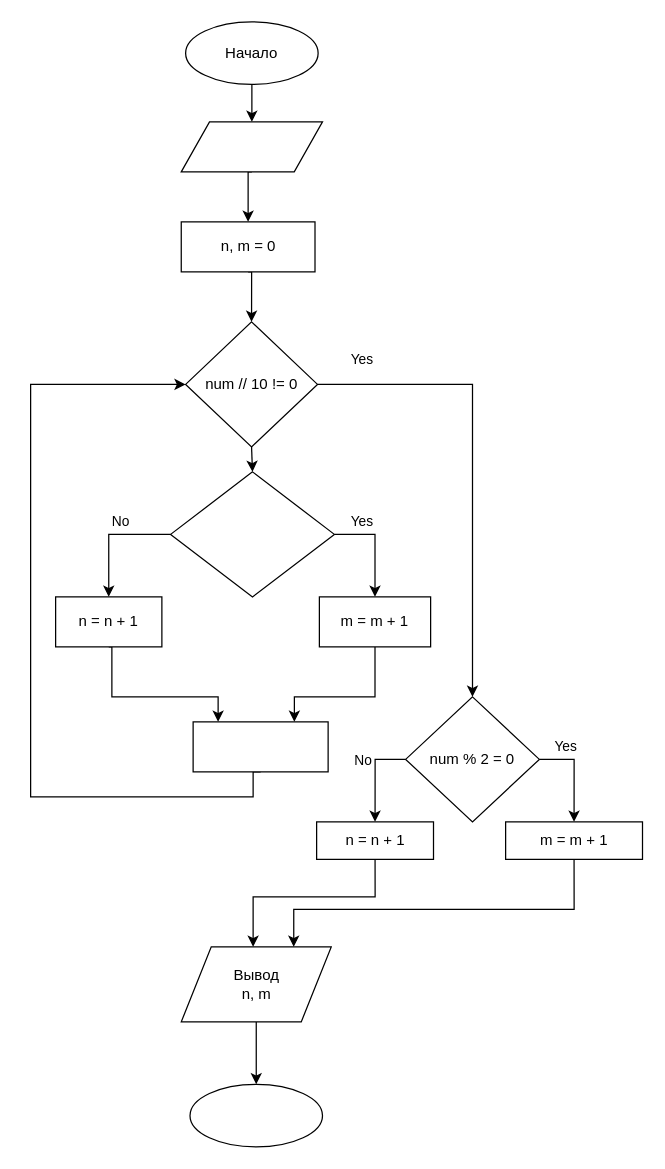
The diagram is 665 pixels wide and 1169 high, and some of its shapes have lost their labels. Here are the shapes that lost their labels. From the top down, the centre of each, then its label:
the point at 251,146: Ввод num
the point at 251,534: num % 10 % 2 = 0
the point at 260,746: num = num // 10
the point at 255,1115: Конец
